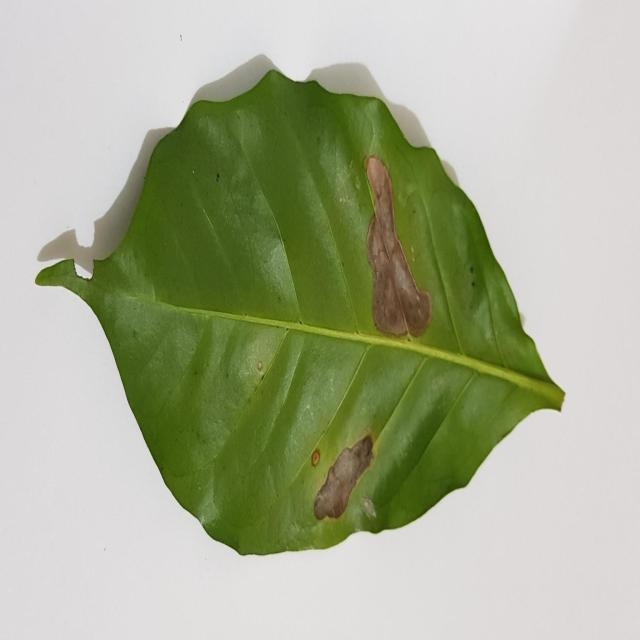Plaga-Minador: (35, 72, 565, 557)
